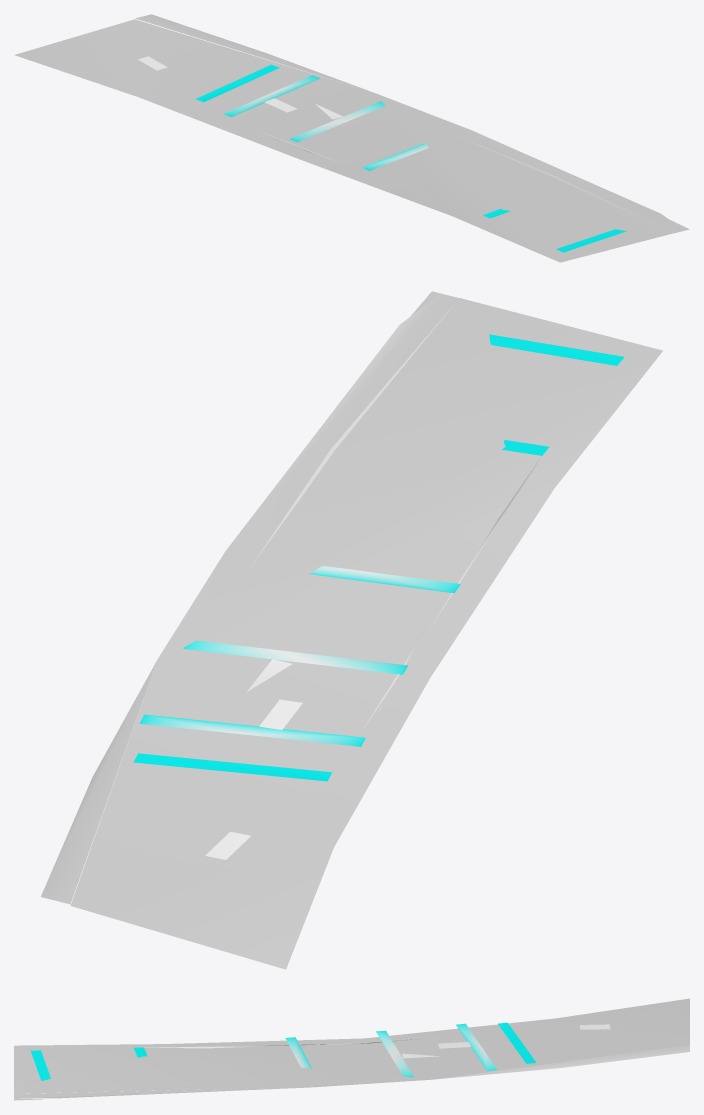
Rendered from cell_71_51.fbx.
The picture shows the model from 3 angles, top to bottom: view 1: azimuth 30°, elevation 25°; view 2: azimuth 150°, elevation 25°; view 3: azimuth 270°, elevation 25°; orthographic projection. The views are drawn at different scales.
Parts seen in each view (by area): view 1: SpaceCenter_Long3_GenerateRoad_Asphalt_Mesh_x89_y63_14125_HD, SpaceCenter_Long3_GenerateRoad_Asphalt_PCGMesh_Decal_Mesh_x8, SpaceCenter_Long3_GenerateRoad_Asphalt_PCGMesh_Macadam_Deca.; view 2: SpaceCenter_Long3_GenerateRoad_Asphalt_Mesh_x89_y63_14125_HD, SpaceCenter_Long3_GenerateRoad_Asphalt_PCGMesh_Decal_Mesh_x8, SpaceCenter_Long3_GenerateRoad_Asphalt_PCGMesh_Macadam_Deca.; view 3: SpaceCenter_Long3_GenerateRoad_Asphalt_Mesh_x89_y63_14125_HD, SpaceCenter_Long3_GenerateRoad_Asphalt_PCGMesh_Decal_Mesh_x8, SpaceCenter_Long3_GenerateRoad_Asphalt_PCGMesh_Macadam_Deca..
Part boxes in pixels (<box>): SpaceCenter_Long3_GenerateRoad_Asphalt_Mesh_x89_y63_14125_HD: <box>14,14,684,262</box>; SpaceCenter_Long3_GenerateRoad_Asphalt_PCGMesh_Decal_Mesh_x8: <box>195,64,626,252</box>; SpaceCenter_Long3_GenerateRoad_Asphalt_PCGMesh_Macadam_Deca.: <box>138,56,342,119</box>; SpaceCenter_Long3_GenerateRoad_Asphalt_Mesh_x89_y63_14125_HD: <box>41,293,662,969</box>; SpaceCenter_Long3_GenerateRoad_Asphalt_PCGMesh_Decal_Mesh_x8: <box>133,334,624,781</box>; SpaceCenter_Long3_GenerateRoad_Asphalt_PCGMesh_Macadam_Deca.: <box>205,659,302,859</box>; SpaceCenter_Long3_GenerateRoad_Asphalt_Mesh_x89_y63_14125_HD: <box>14,998,689,1098</box>; SpaceCenter_Long3_GenerateRoad_Asphalt_PCGMesh_Decal_Mesh_x8: <box>31,1022,536,1080</box>; SpaceCenter_Long3_GenerateRoad_Asphalt_PCGMesh_Macadam_Deca.: <box>402,1024,610,1058</box>.
Size of the model in its own units: 28.96 by 2.87 by 64.01.
